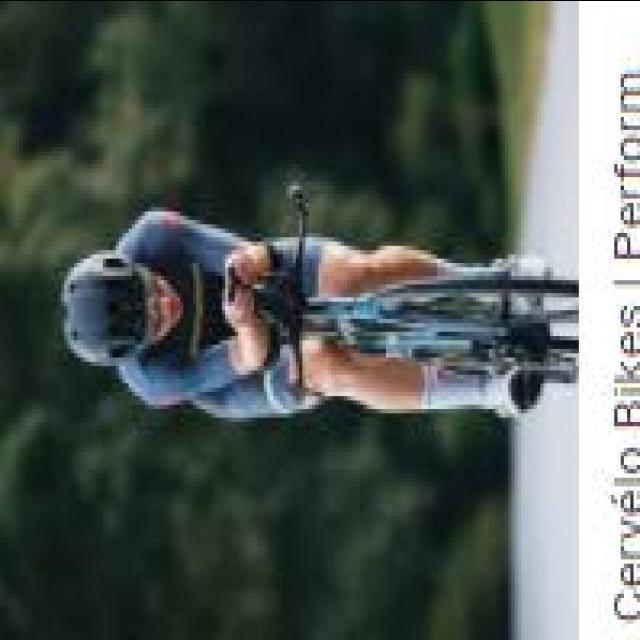bicycle: (287, 264, 570, 388)
